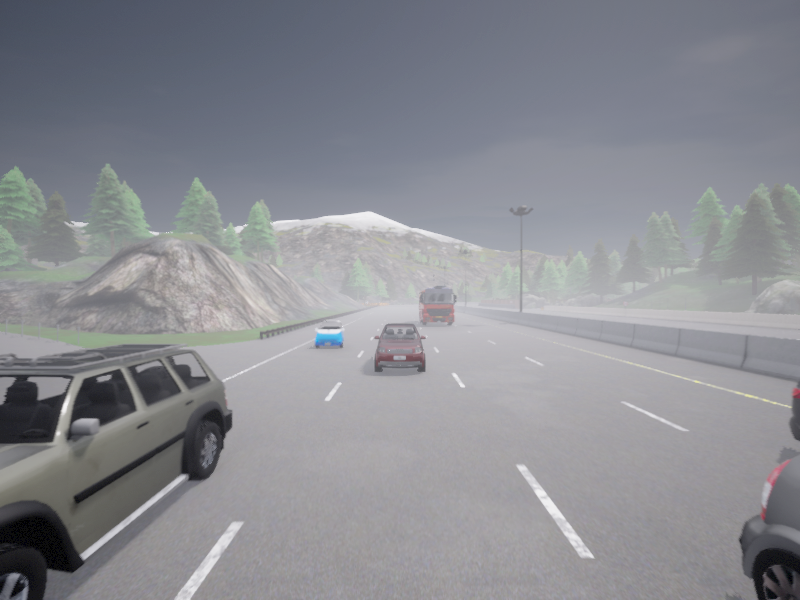vehicle: (0, 344, 232, 599), (738, 455, 799, 599), (374, 323, 425, 372), (419, 285, 456, 325), (315, 320, 344, 348), (788, 379, 799, 441)
